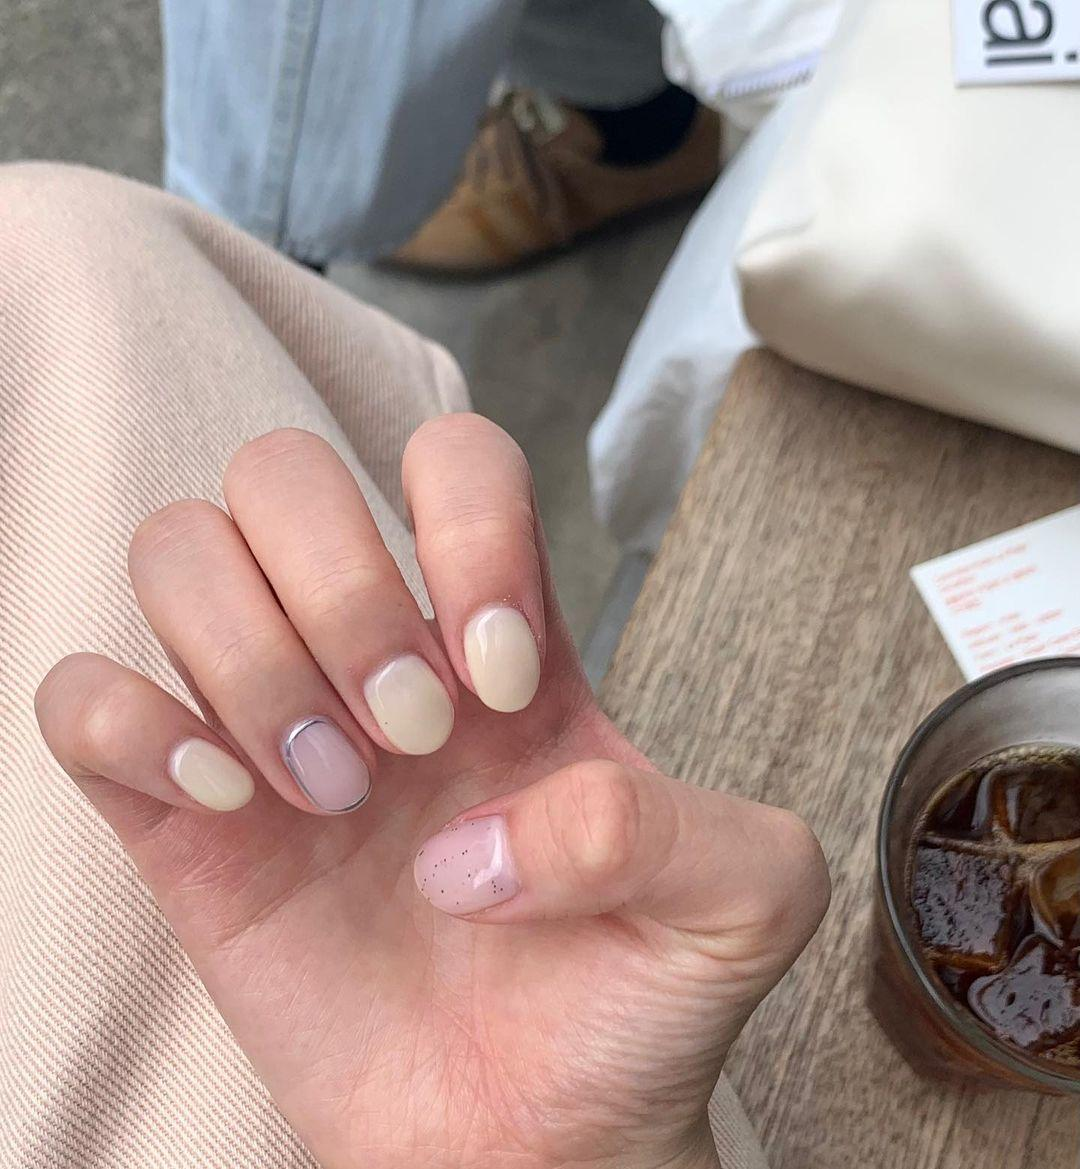nail: (411, 811, 521, 917), (362, 651, 455, 756), (280, 713, 372, 814), (461, 601, 541, 713), (166, 734, 255, 813)
